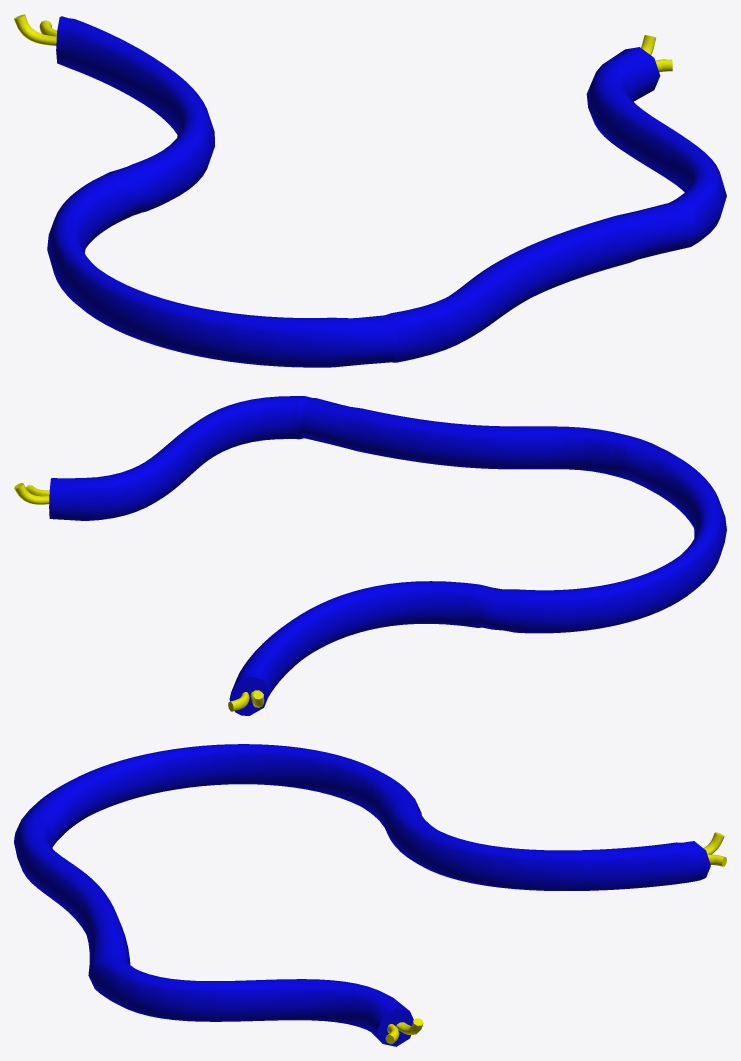
Rendered from cable_3.fbx.
3 views of the same model, one above another, from view 1: azimuth 30°, elevation 25°; view 2: azimuth 150°, elevation 25°; view 3: azimuth 270°, elevation 25° (orthographic). The views are drawn at different scales.
Parts seen in each view (by area): view 1: extrudedSurface9; view 2: extrudedSurface9; view 3: extrudedSurface9.
Boxes of the visible parts, x1,y1,x2,y2 form: extrudedSurface9: [14, 14, 726, 367]; extrudedSurface9: [14, 396, 726, 715]; extrudedSurface9: [14, 744, 726, 1046].
Size of the model in its own units: 1.05 by 0.067 by 1.12.
